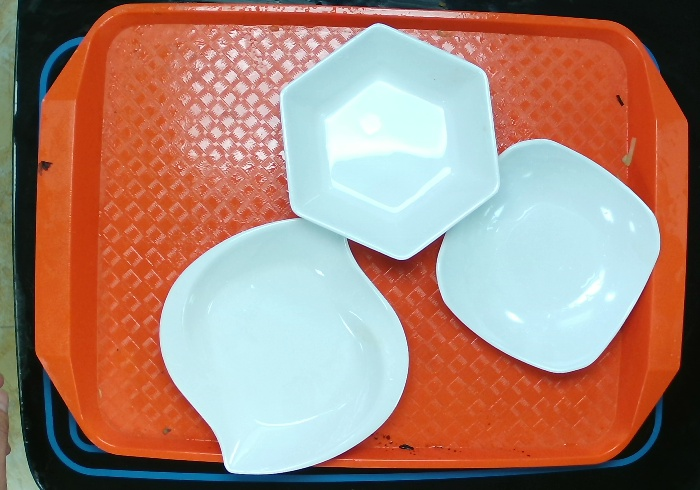RJxy-Liu_Jiao_Wan: (277, 20, 504, 260)
RJxy-Shuang_Jiao_Pan: (157, 208, 416, 477)
RJxy-Si_Fang_Wan: (434, 132, 663, 381)
